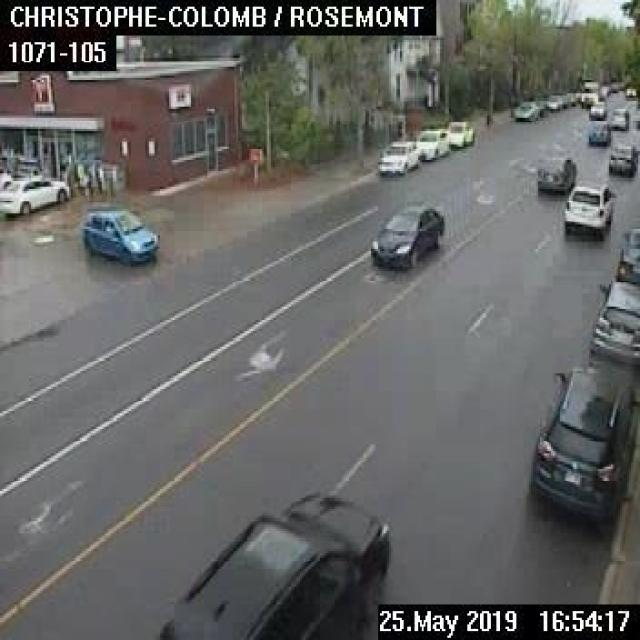vehicle: (156, 490, 388, 638), (529, 364, 638, 522), (369, 202, 446, 269), (591, 278, 638, 364), (81, 209, 157, 259), (562, 183, 615, 236), (0, 174, 67, 214), (376, 140, 416, 174), (536, 157, 575, 190), (617, 227, 638, 279), (416, 128, 448, 160), (607, 143, 638, 175), (447, 120, 473, 146), (587, 119, 609, 143), (512, 100, 538, 120), (579, 80, 597, 106), (608, 106, 628, 128), (588, 100, 606, 116), (546, 93, 562, 110), (566, 92, 576, 105), (623, 86, 635, 96), (538, 101, 546, 115), (561, 94, 568, 108), (609, 82, 617, 91)
